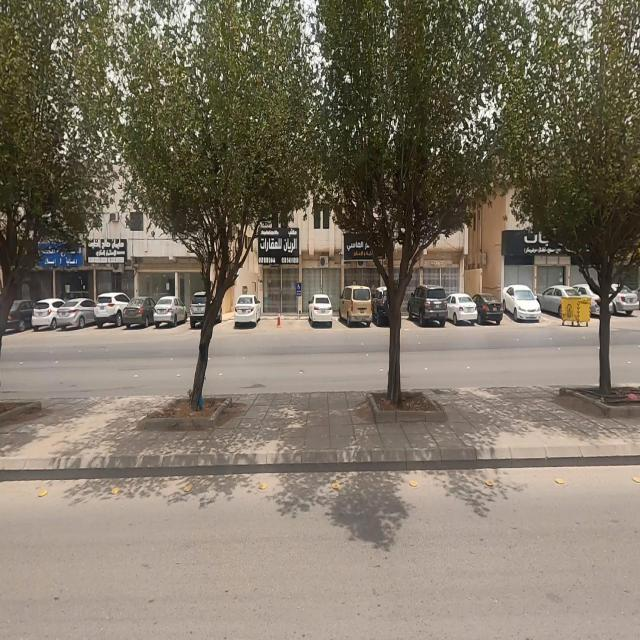debris: (182, 364, 216, 441)
